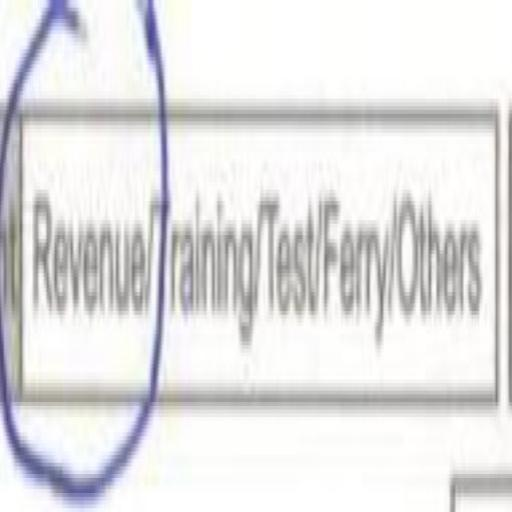check: (15, 7, 151, 512)
